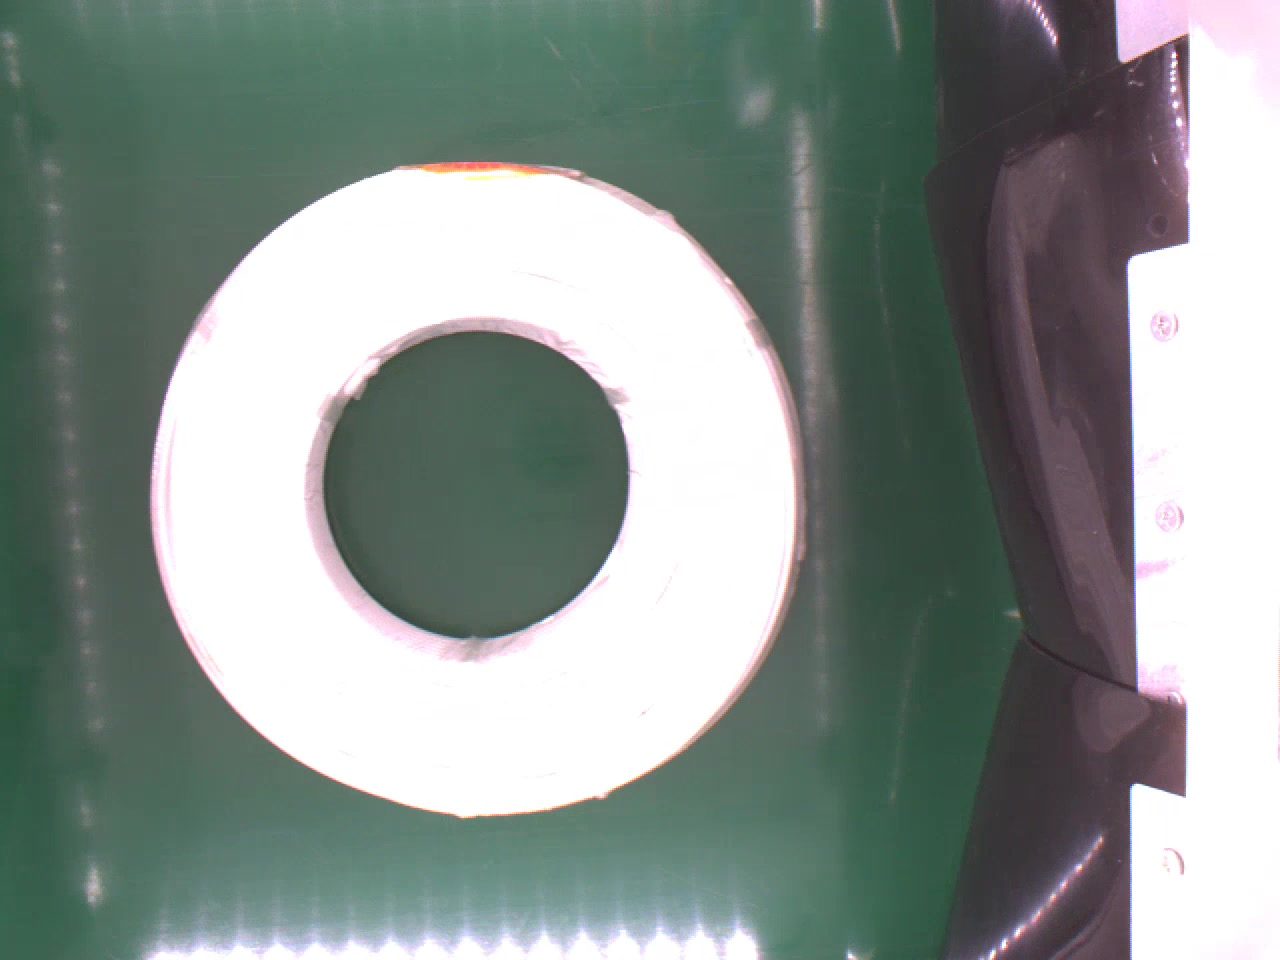white: (146, 153, 821, 821)
